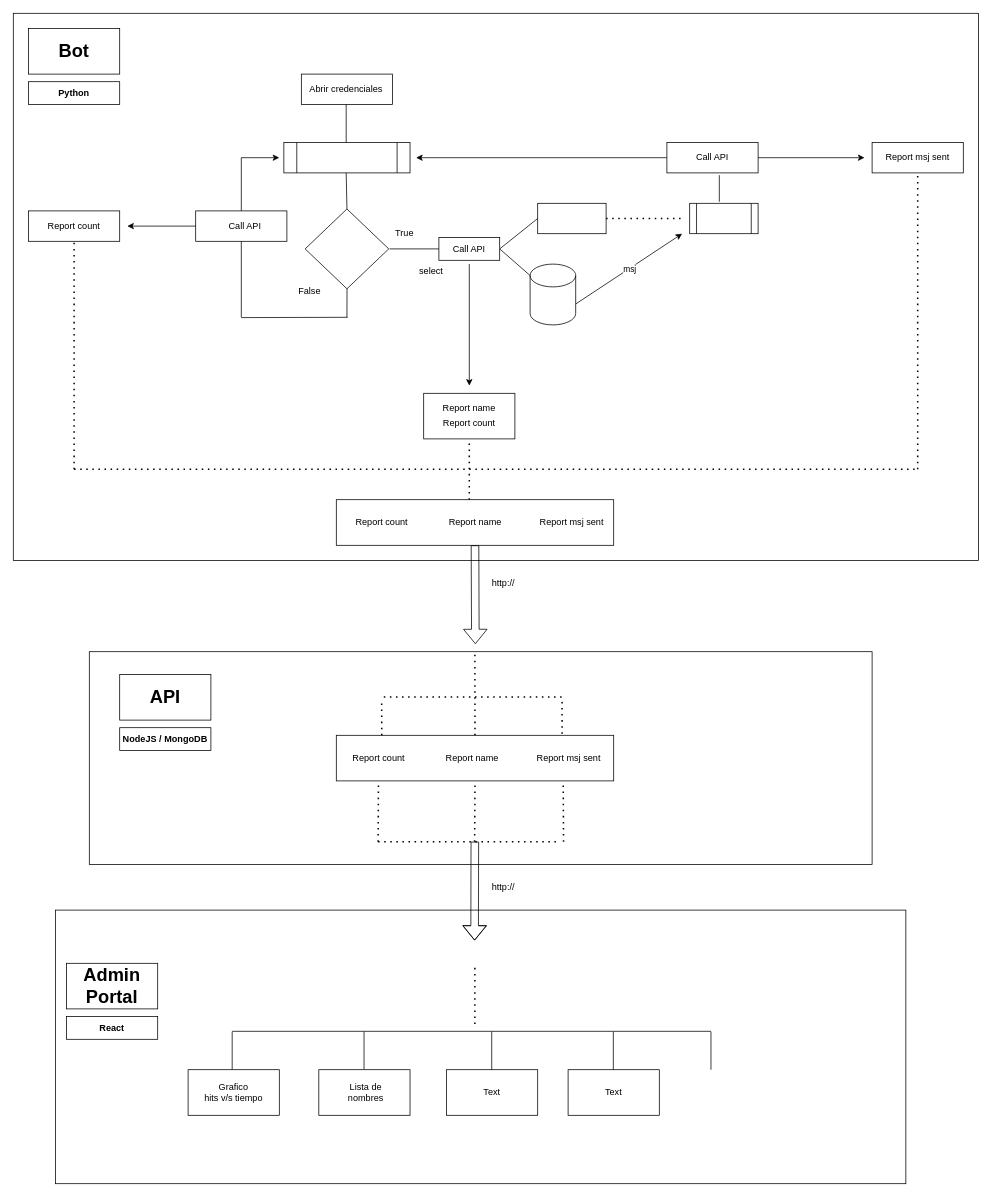
Image size: 992x1197. Some labels were removed from this diagram. The centre of each missing label's shape, as x and y in pixels:
data: the point at 552,294
If MACH: the point at 346,248
Open Chat: the point at 571,218
Send msj: the point at 723,218
Swipe (0.72% like): the point at 346,157
